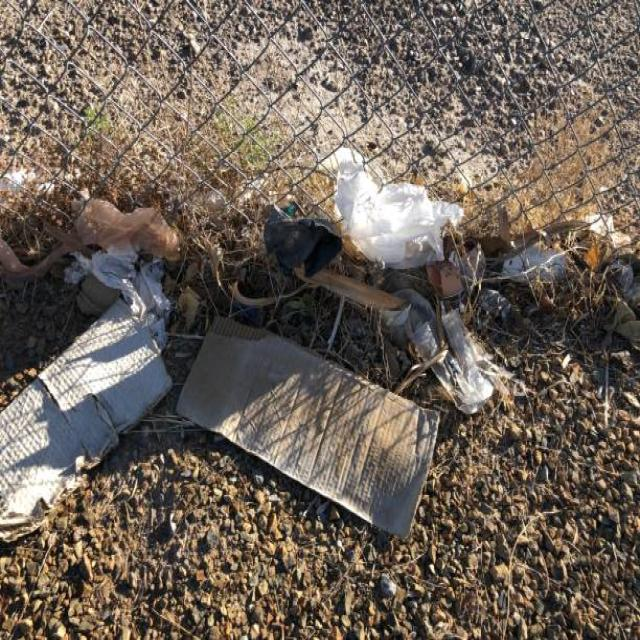cardboard: (206, 348, 437, 496), (1, 390, 167, 482)
